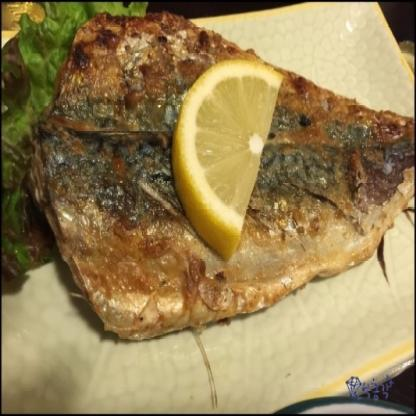Peixe: (27, 33, 416, 338)
